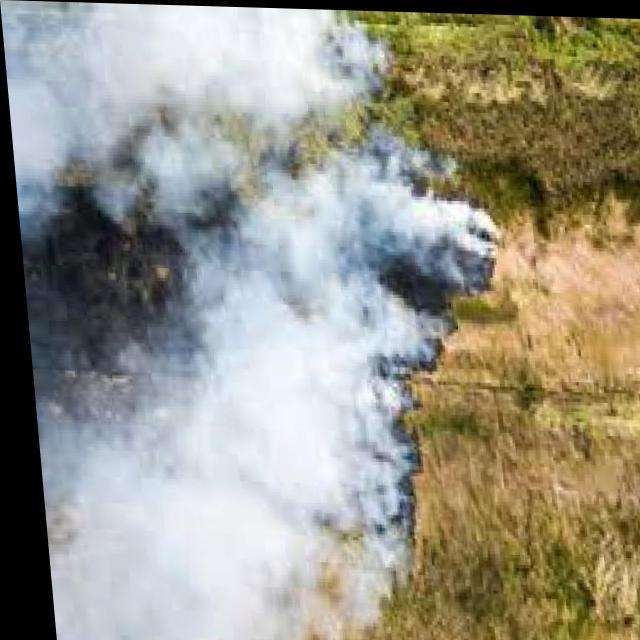Smoke: (0, 0, 533, 640)
